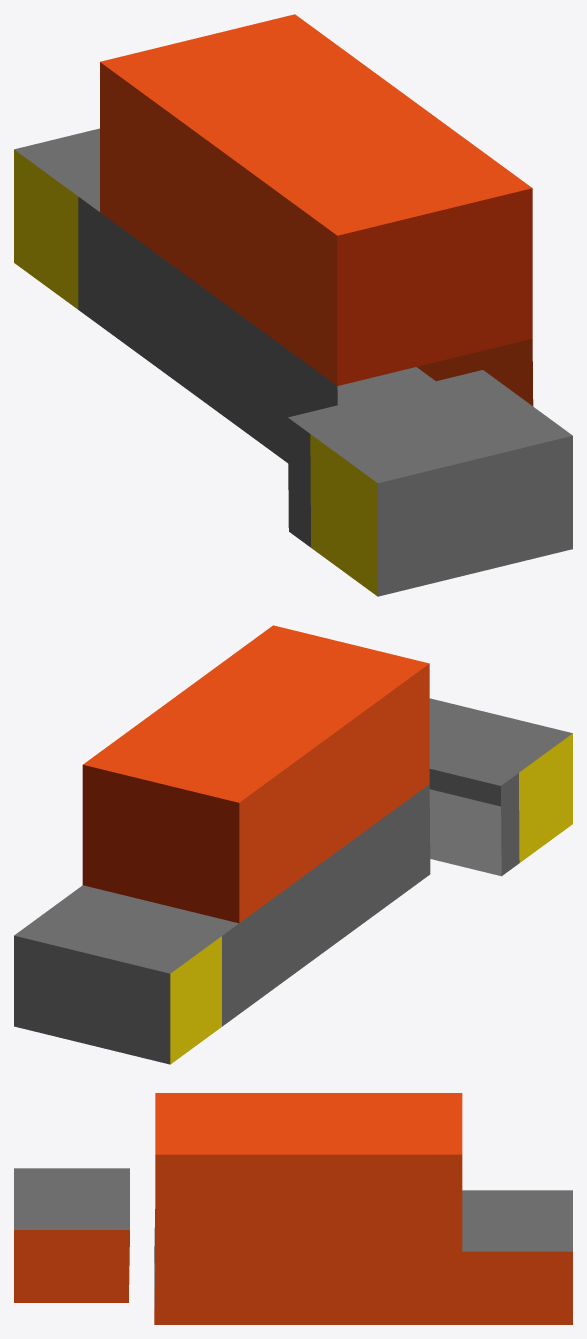
File: FrenteGrua.fbx
3 views of the same model, one above another, from view 1: azimuth 30°, elevation 25°; view 2: azimuth 150°, elevation 25°; view 3: azimuth 270°, elevation 25° (orthographic). The views are drawn at different scales.
Parts seen in each view (by area): view 1: FrenteGrua; view 2: FrenteGrua; view 3: FrenteGrua.
Boxes of the visible parts, x1,y1,x2,y2 form: FrenteGrua: (14,14,572,596); FrenteGrua: (14,625,572,1064); FrenteGrua: (14,1093,572,1324).
Size of the model in its own units: 271 by 259 by 770.
